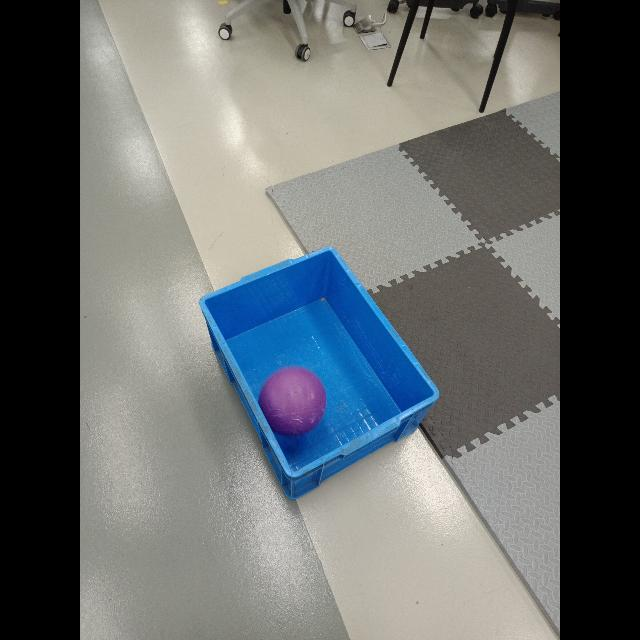P: (258, 366, 326, 436)
